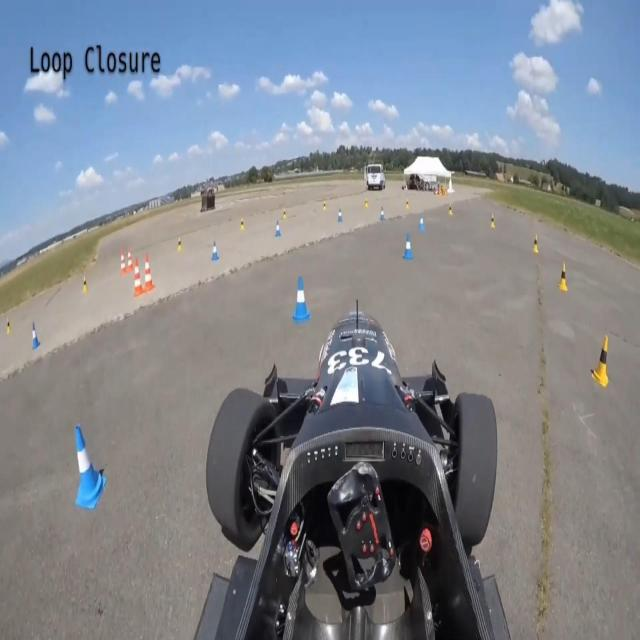blue_cone: (75, 425, 106, 510), (293, 274, 311, 321), (404, 234, 414, 261), (31, 322, 41, 348), (417, 212, 426, 232), (211, 239, 219, 261), (275, 220, 281, 238)
large_orange_cone: (143, 253, 155, 294), (134, 257, 144, 296), (120, 248, 126, 274), (128, 250, 134, 274)
yellow_cone: (591, 334, 610, 387), (557, 263, 569, 290), (533, 232, 540, 254)
